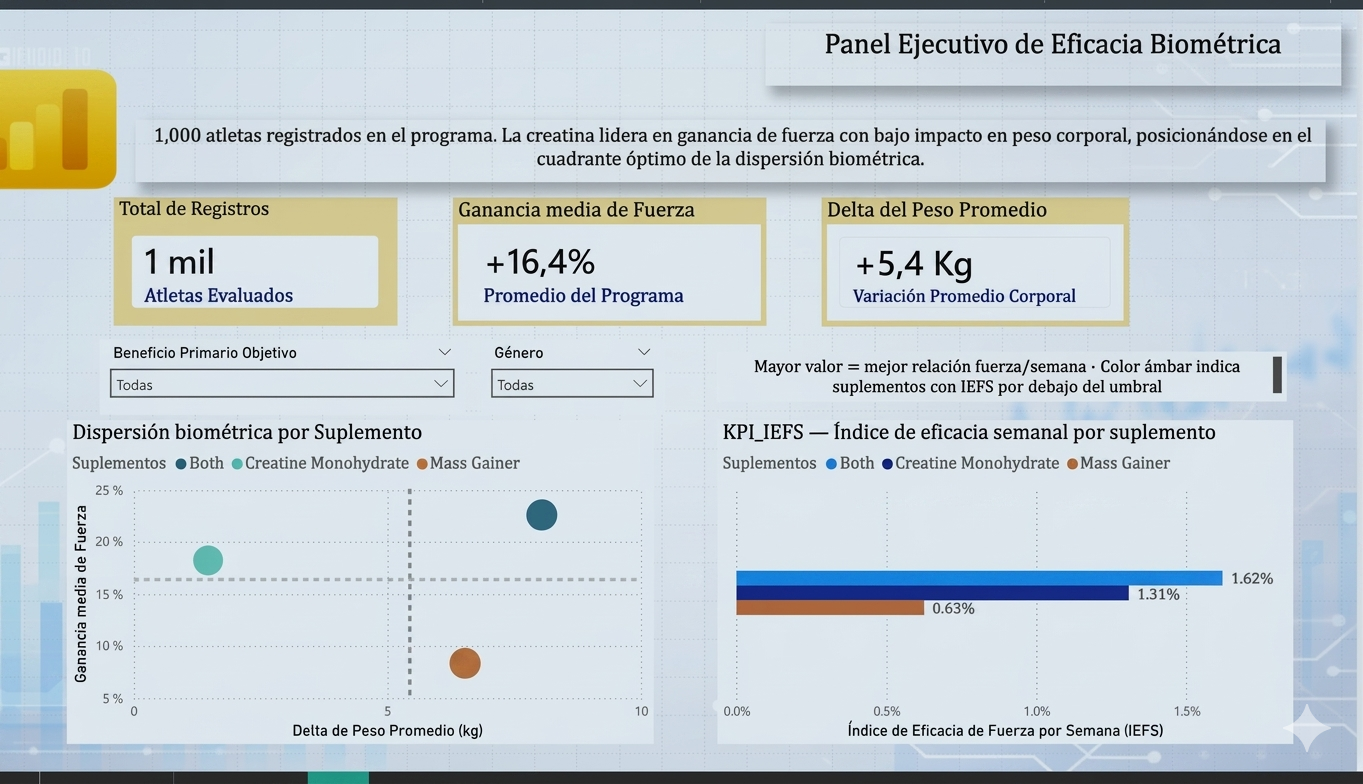

This screenshot's page, from the dashboard's own definition file:
{"tool":"powerbi","page":{"name":"Página 1","canvas":[1280,720],"ordinal":0},"visuals":[{"type":"cardVisual","title":"Total de Registros","fields":{"Data":["_Medidas Oficiales.Total Registros de Rendimiento"]},"box":[107.8,177.8,268,121.3],"z":0},{"type":"cardVisual","title":"Ganancia media de Fuerza","fields":{"Data":["_Medidas Oficiales.Ganancia Promedio de Fuerza %"]},"box":[427.6,177.8,296.4,121.3],"z":1000},{"type":"cardVisual","title":"Delta del Peso Promedio","fields":{"Data":["_Medidas Oficiales.Delta de Peso Promedio (kg) KPI"]},"box":[775.8,177.8,290.9,122],"z":2000},{"type":"scatterChart","title":"Dispersión biométrica por Suplemento","fields":{"X":["_Medidas Oficiales.Delta de Peso Promedio (kg)"],"Y":["_Medidas Oficiales.Ganancia Promedio de Fuerza Base %"],"Size":["_Medidas Oficiales.Total Registros de Rendimiento"],"Series":["nutrition_analytics_db dim_supplement.supplement_name"]},"box":[63.2,387.9,554,305.6],"z":3000},{"type":"textbox","box":[722.9,13.2,543.7,58.8],"z":4000},{"type":"slicer","fields":{"Values":["nutrition_analytics_db dim_benefit.benefit_name"]},"box":[94,311.5,345.3,70.5],"z":5000},{"type":"slicer","fields":{"Values":["nutrition_analytics_db dim_athlete.Género"]},"box":[454,311.5,173.4,70.5],"z":6000},{"type":"clusteredBarChart","title":"KPI_IEFS — índice de eficacia semanal por suplemento","fields":{"Y":["_Medidas Oficiales.Índice de Eficacia de Fuerza por Semana (IEFS)"],"Series":["nutrition_analytics_db dim_supplement.supplement_name"]},"box":[677.4,387.9,543.7,305.6],"z":7000},{"type":"textbox","box":[127.8,104.3,1124.1,58.8],"z":8000},{"type":"textbox","box":[677.4,323.3,537.8,47],"z":8001}]}

Visuals, with their boxes in screenshot pixels (x1, y1, x2, y2), scaled from the page's 1280x720 canvas onto the 1363x784 screenshot:
"Total de Registros" cardVisual: pyautogui.locateOnScreen(115, 194, 400, 326)
"Ganancia media de Fuerza" cardVisual: pyautogui.locateOnScreen(455, 194, 771, 326)
"Delta del Peso Promedio" cardVisual: pyautogui.locateOnScreen(826, 194, 1136, 326)
"Dispersión biométrica por Suplemento" scatterChart: pyautogui.locateOnScreen(67, 422, 657, 755)
textbox: pyautogui.locateOnScreen(770, 14, 1349, 78)
slicer - nutrition_analytics_db dim_benefit.benefit_name: pyautogui.locateOnScreen(100, 339, 468, 416)
slicer - nutrition_analytics_db dim_athlete.Género: pyautogui.locateOnScreen(483, 339, 668, 416)
"KPI_IEFS — índice de eficacia semanal por suplemento" clusteredBarChart: pyautogui.locateOnScreen(721, 422, 1300, 755)
textbox: pyautogui.locateOnScreen(136, 114, 1333, 178)
textbox: pyautogui.locateOnScreen(721, 352, 1294, 403)
